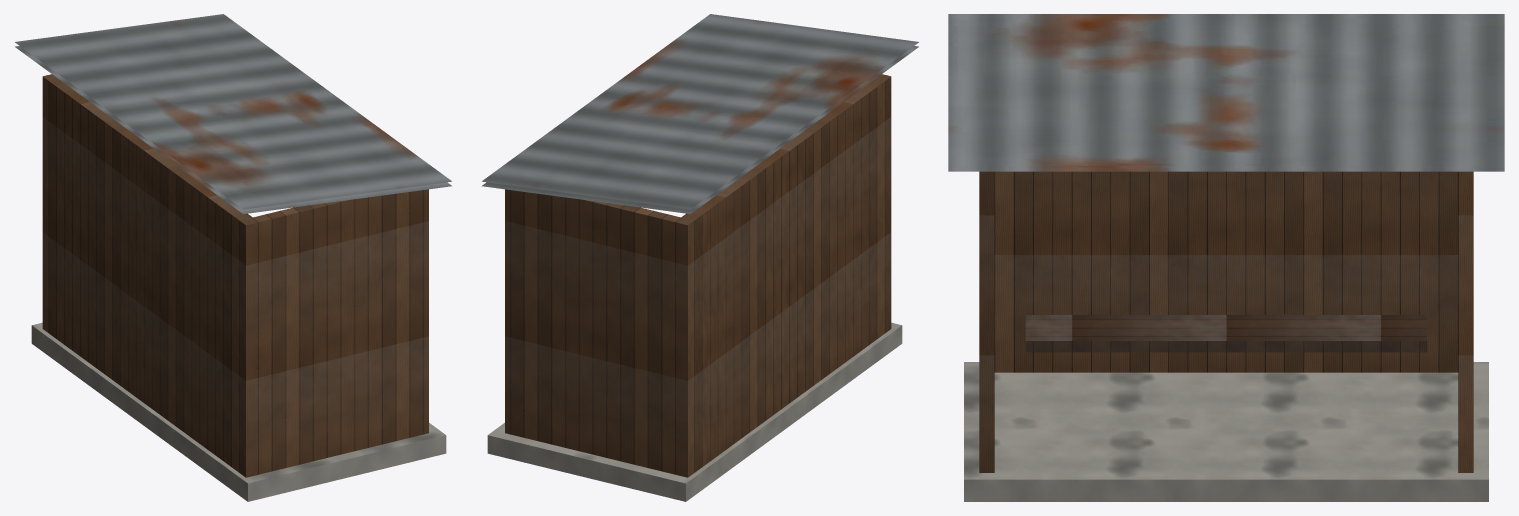
File: busstop0.fbx
The picture shows the model from 3 angles, left to right: view 1: azimuth 30°, elevation 25°; view 2: azimuth 150°, elevation 25°; view 3: azimuth 270°, elevation 25°; orthographic projection. The views are drawn at different scales.
Visible parts, largest first — view 1: busstop0; view 2: busstop0; view 3: busstop0.
Boxes of the visible parts, x1,y1,x2,y2 form: busstop0: [15, 14, 452, 501]; busstop0: [481, 14, 918, 501]; busstop0: [948, 14, 1504, 501].
Size of the model in its own units: 1.9 by 2.6 by 3.6.
Materials: 4 (4 with a texture image).
